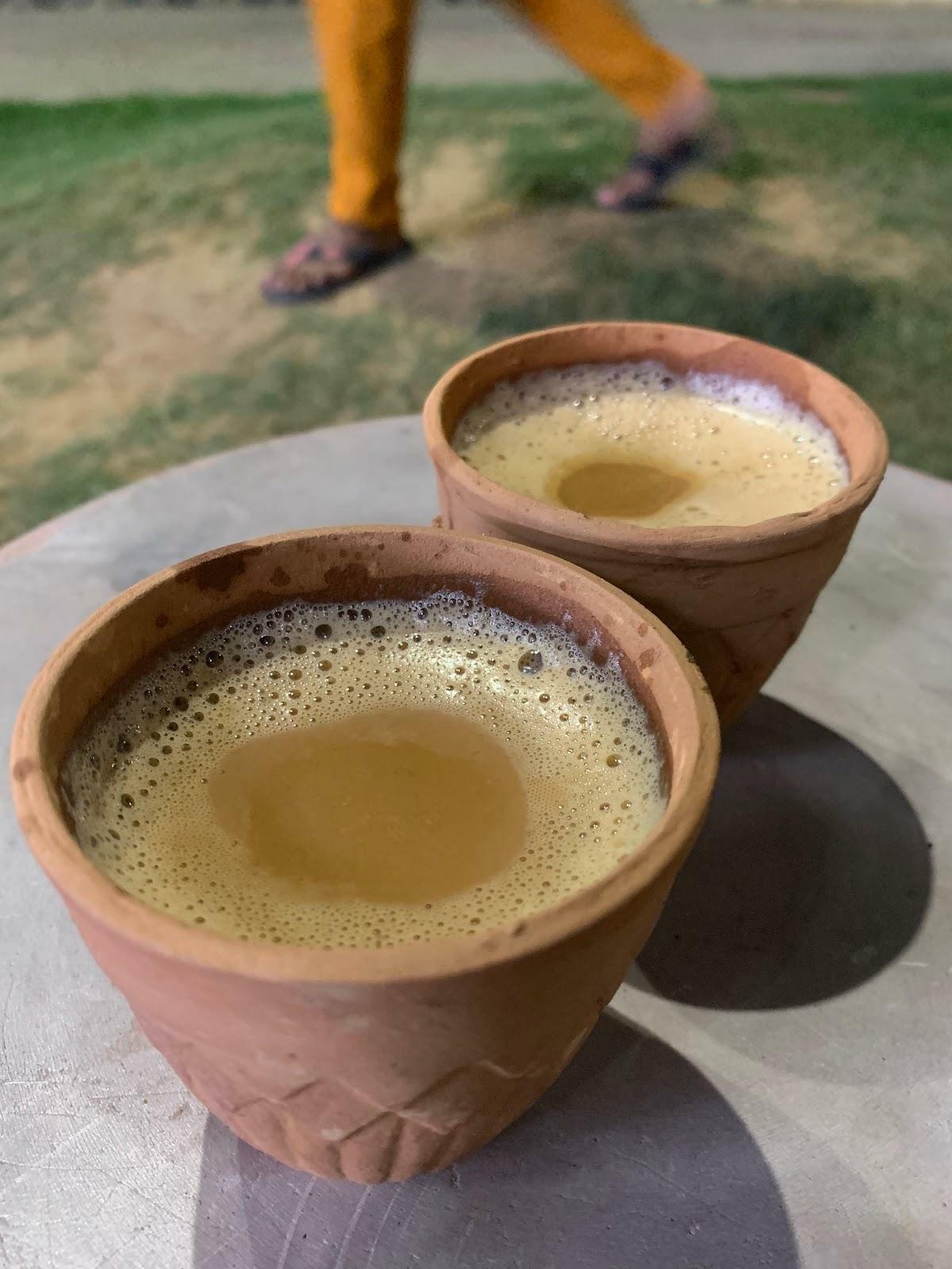Chai: (55, 587, 676, 962), (458, 367, 838, 533)
